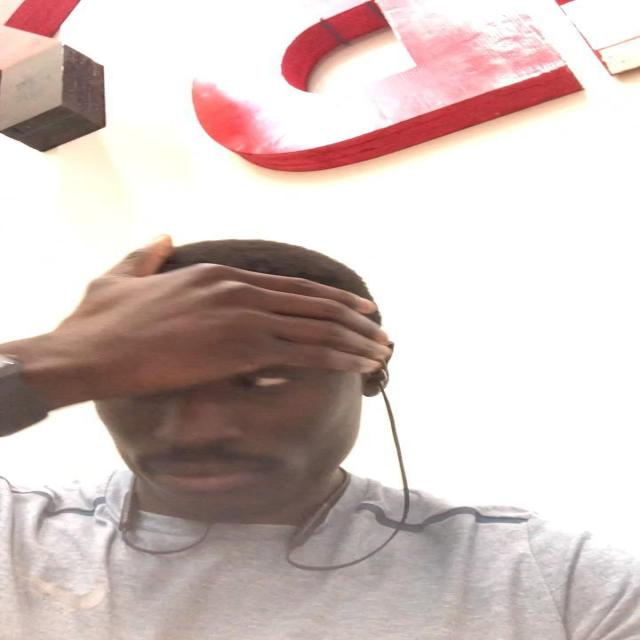face: (93, 304, 368, 517)
